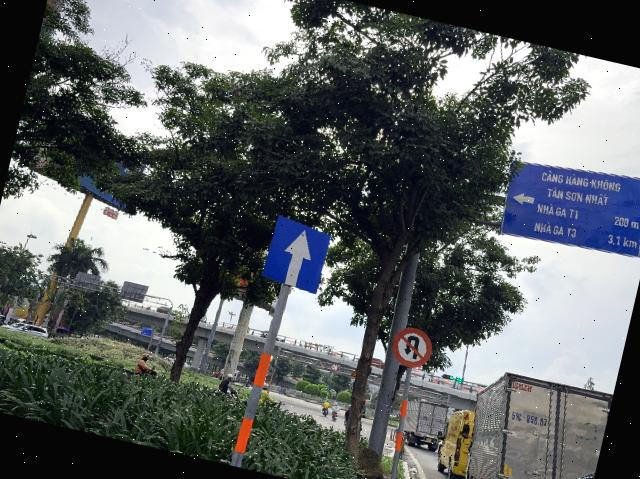cam-quay-dau-xe: (388, 323, 436, 372)
duong-mot-chieu: (260, 212, 332, 294)
